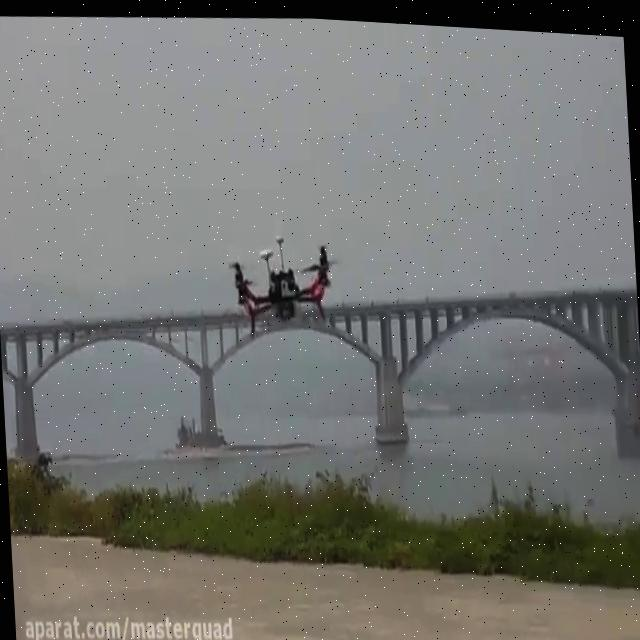drone: (218, 219, 347, 341)
